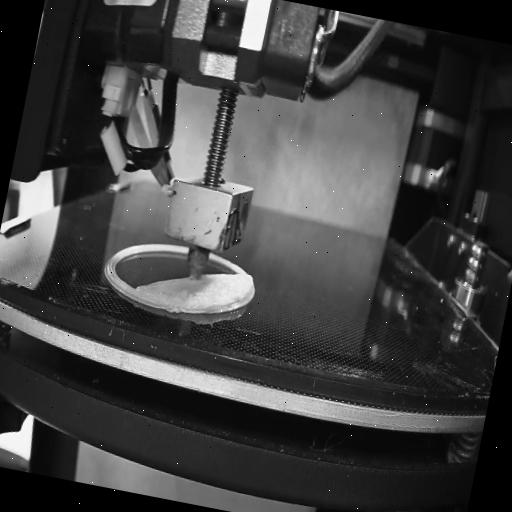over_extrusion: (236, 267, 258, 310)
